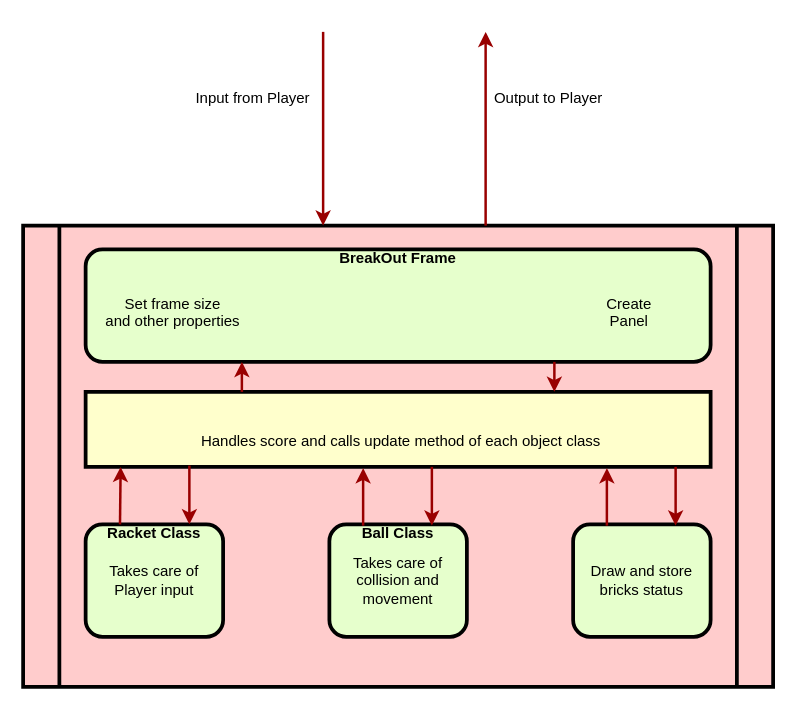
Image size: 796x710. Some labels were removed from this diagram. The shapes that lost their labels are listed below. From the top down, each one's box as (x1, y1, x2, y2) in pixels, then its label:
(83, 389, 712, 468): Panel (Update each Object when paint method is called)
(571, 522, 712, 638): Bricks Class
